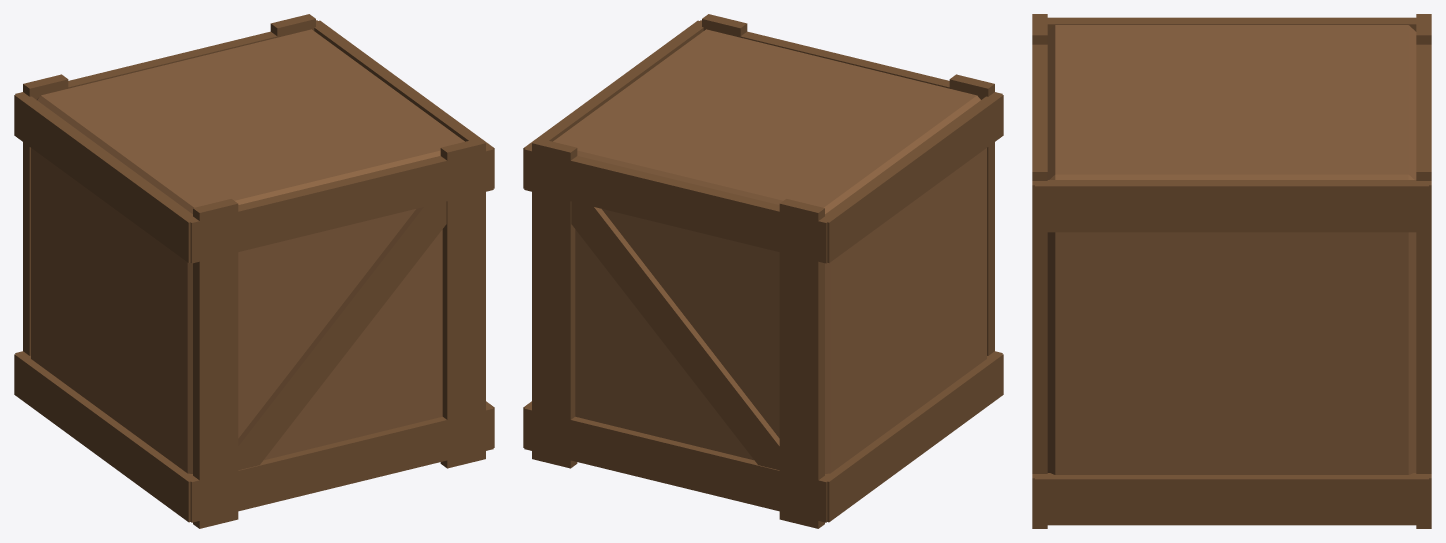
The model's file is Crate.obj.
3 renders of one model, left to right at view 1: azimuth 30°, elevation 25°; view 2: azimuth 150°, elevation 25°; view 3: azimuth 270°, elevation 25°, orthographic. The views are drawn at different scales.
Size of the model in its own units: 1.58 by 1.56 by 1.58.
